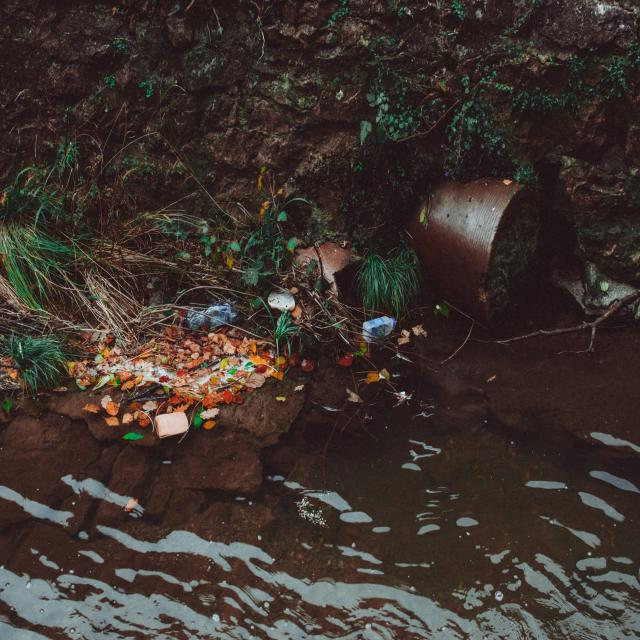metal: (444, 203, 515, 304)
